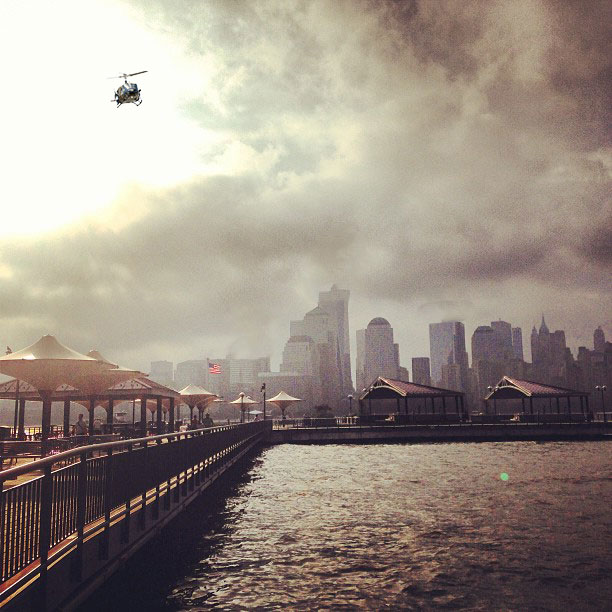copymove: (357, 372, 469, 425)
removal: (431, 293, 464, 327)
spliced: (102, 66, 156, 113)
